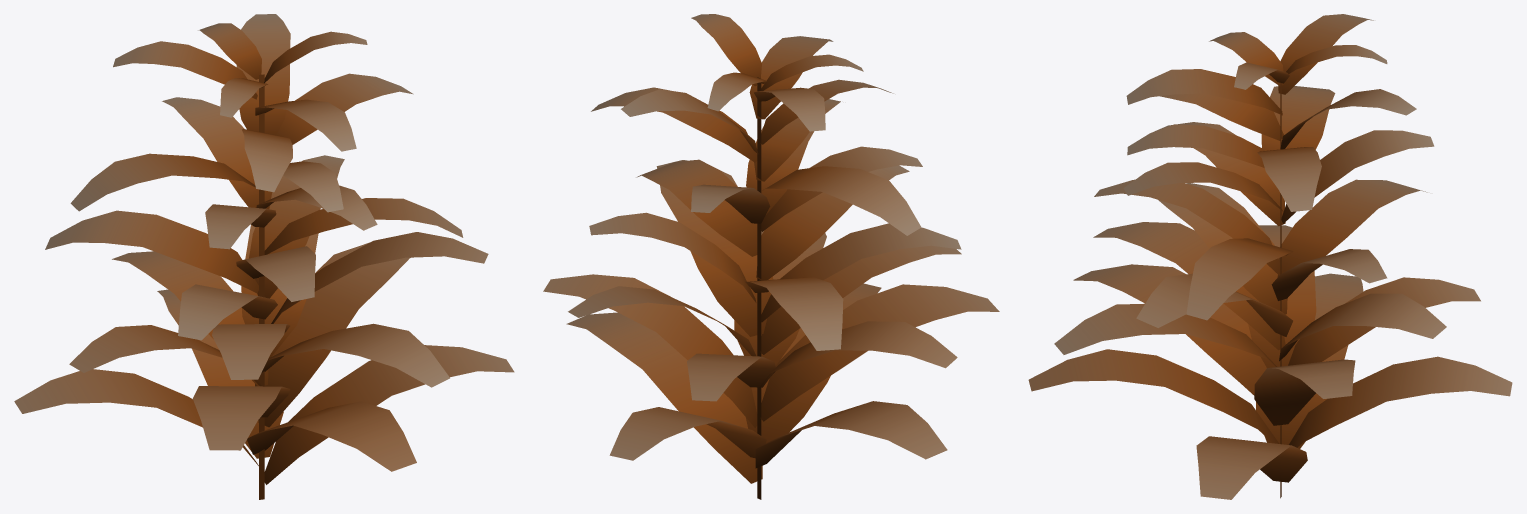
Rendered from plant_005.fbx.
3 views of the same model, side by side, from view 1: azimuth 30°, elevation 25°; view 2: azimuth 150°, elevation 25°; view 3: azimuth 270°, elevation 25° (orthographic).
Visible parts, largest first — view 1: plant.005; view 2: plant.005; view 3: plant.005.
Part boxes in pixels (<box>): plant.005: <box>14,14,514,499</box>; plant.005: <box>543,14,999,499</box>; plant.005: <box>1028,14,1512,499</box>.
Bounding box in the file's own units: 49.6 × 49.94 × 47.99.
